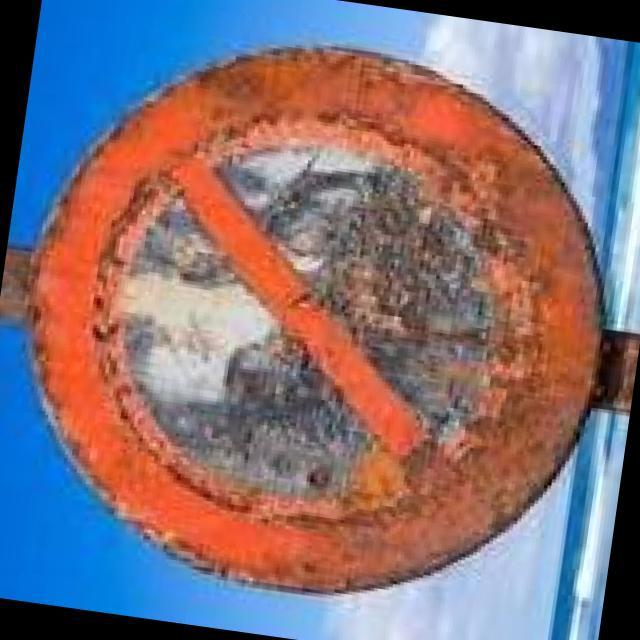obstructed_road_sign: (31, 49, 599, 591)
